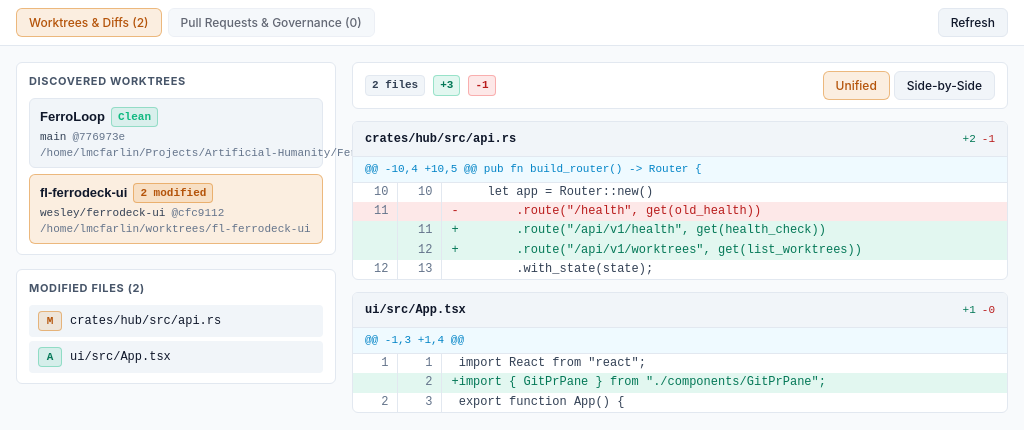
Test case: empty-state muting › greys and disables the PR governance form when no PRs are tracked
Click the button "Pull Requests & Governance (0)" at (271, 22), box [168,8,375,37]
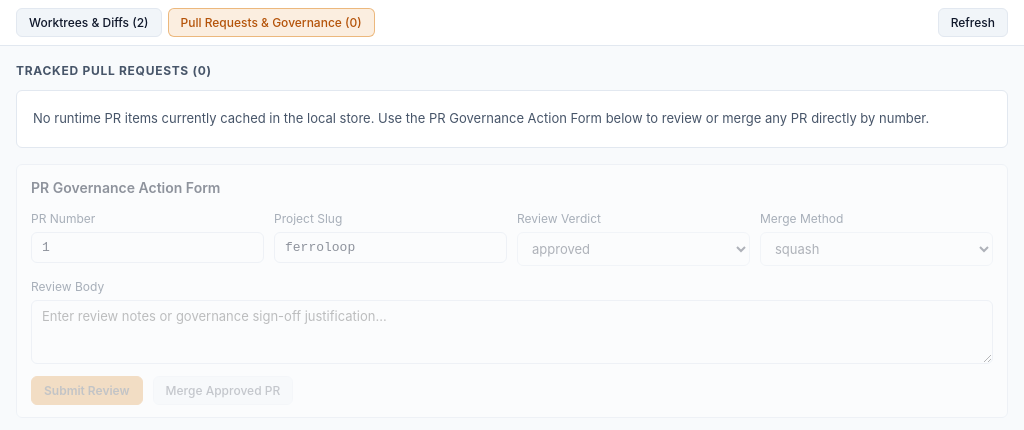
Check: the button "Submit Review" is disabled, box [31,376,143,404]
Check: the number field labelled "PR Number" is disabled, box [31,232,264,262]
